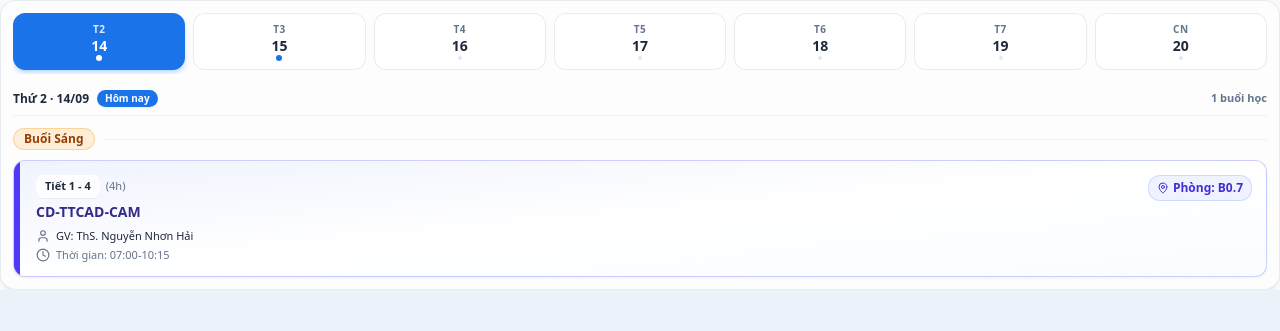
Test: TimetableMobileView › shows empty friendly message on day with no classes
The image size is (1280, 331).
Click the button "CN 20" at (1181, 42), box [1095,13,1267,70]
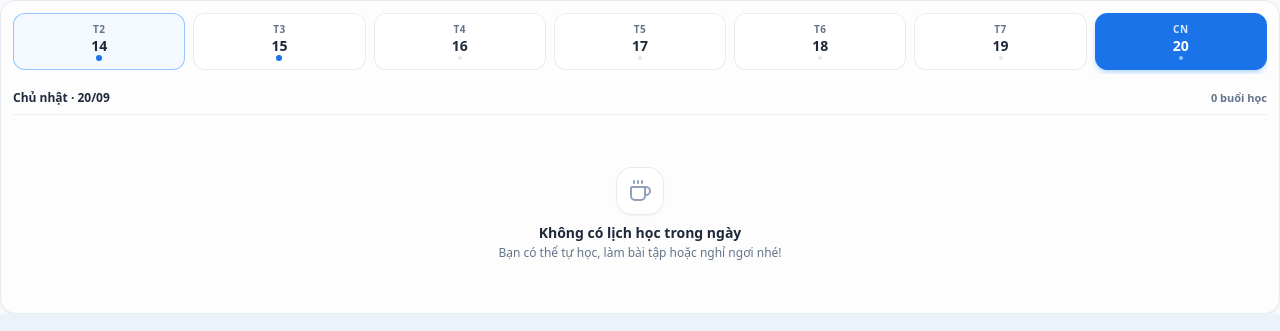
Now the text "Không có lịch học trong ngày" is shown, box [539,223,741,243]
